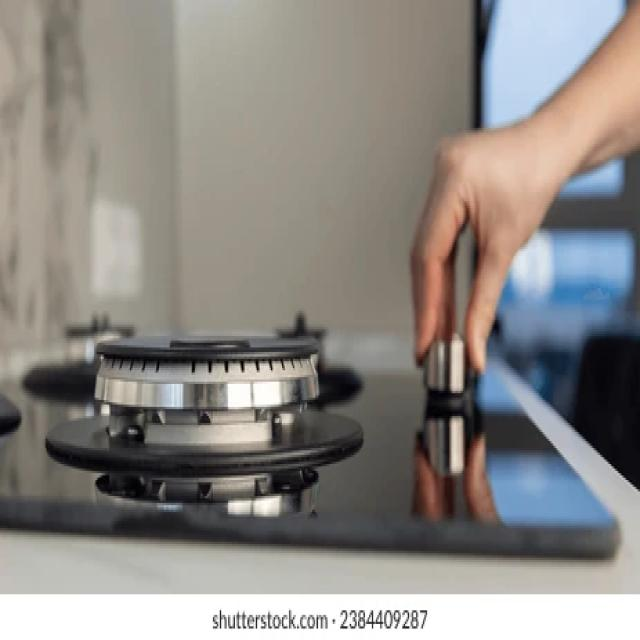knob_ON: (56, 300, 382, 497)
